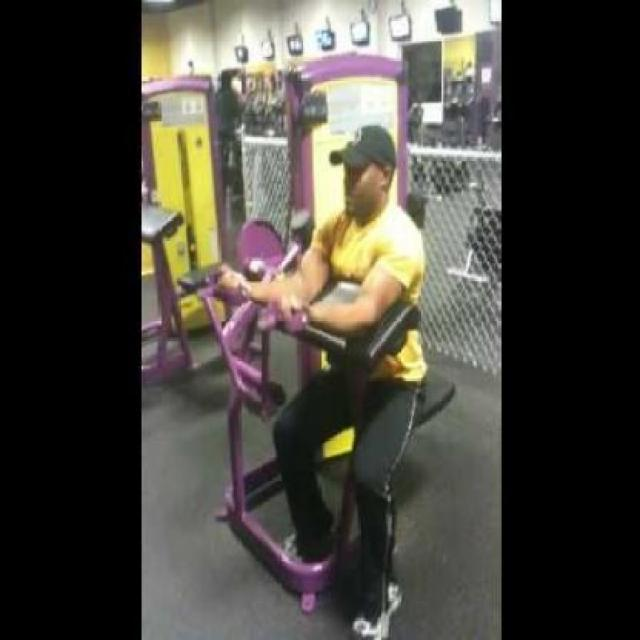arm curl machine: (200, 211, 455, 640)
